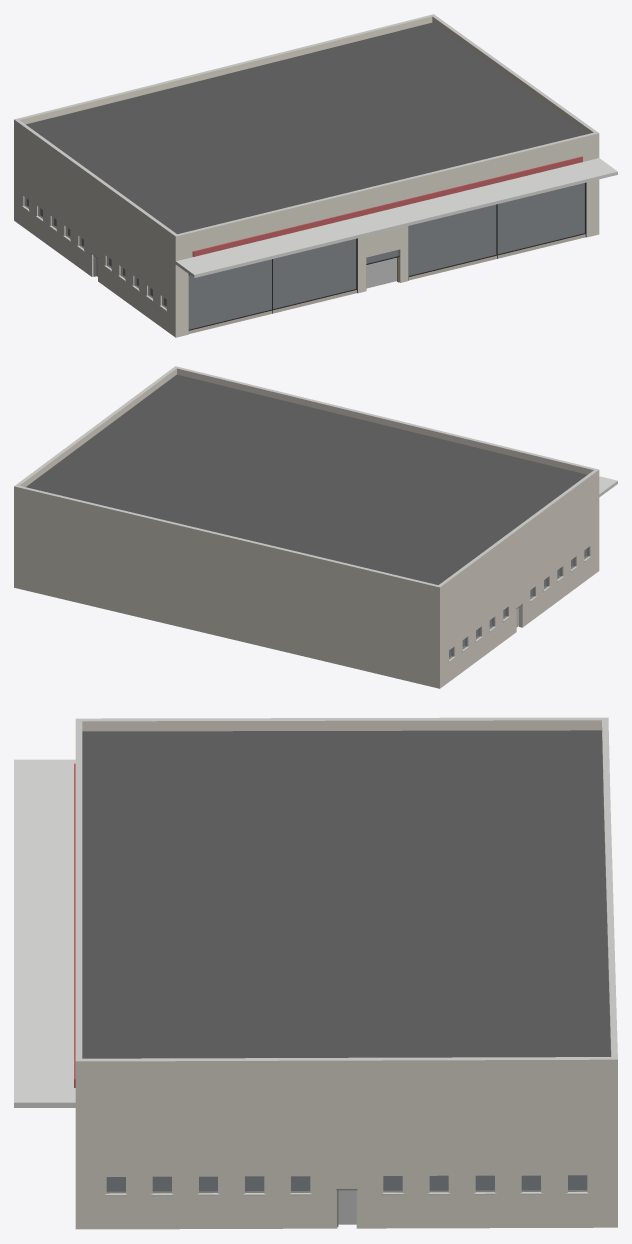
File: exterior.glb
3 views of the same model, one above another, from view 1: azimuth 30°, elevation 25°; view 2: azimuth 150°, elevation 25°; view 3: azimuth 270°, elevation 25° (orthographic). The views are drawn at different scales.
Parts seen in each view (by area): view 1: roof, shell, glazing, shadow-proxy, awning-box-1, sign-bands, storefront; view 2: shell, roof, glazing; view 3: roof, shell, awning-box-1, shadow-proxy, glazing.
Boxes of the visible parts, x1,y1,x2,y2 form: roof: [26, 22, 587, 234]; shell: [14, 14, 599, 337]; glazing: [24, 183, 585, 329]; shadow-proxy: [27, 183, 584, 329]; awning-box-1: [175, 158, 617, 277]; sign-bands: [192, 156, 582, 256]; storefront: [91, 182, 586, 333]; shell: [14, 366, 599, 688]; roof: [26, 374, 587, 584]; glazing: [449, 547, 588, 659]; roof: [82, 730, 610, 1058]; shell: [75, 717, 617, 1229]; awning-box-1: [14, 759, 75, 1107]; shadow-proxy: [107, 1175, 586, 1224]; glazing: [106, 1175, 587, 1193].
Size of the model in its own units: 42.29 by 9.6 by 31.28.
